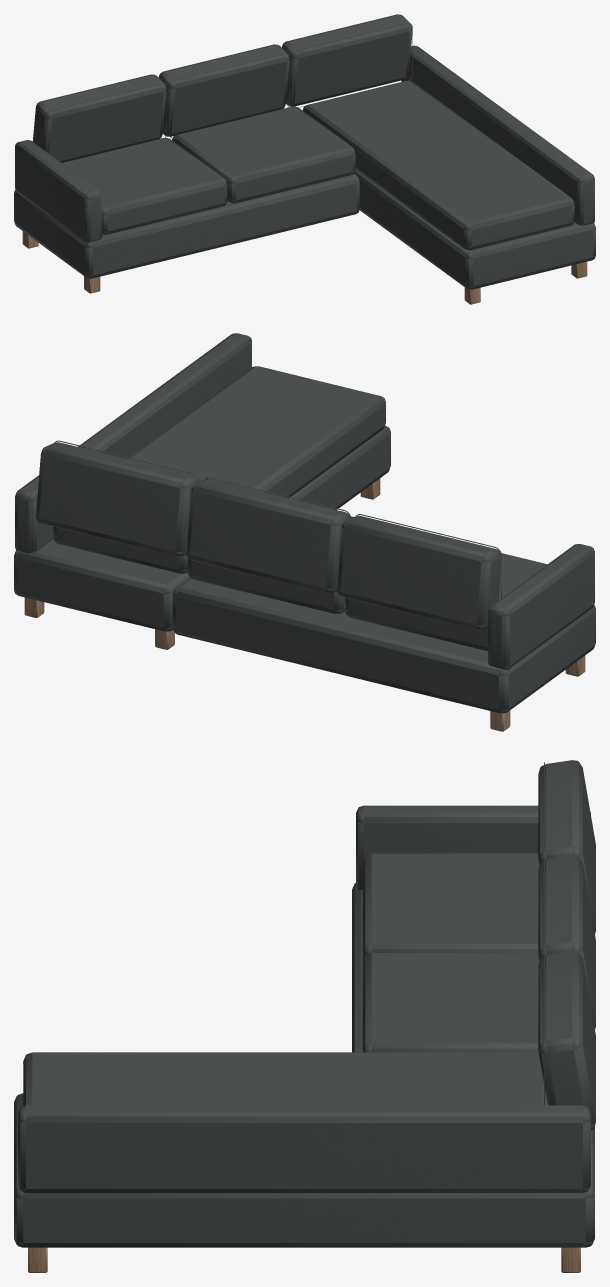
The model's file is everyday-sectional-track-right.glb.
3 views of the same model, one above another, from view 1: azimuth 30°, elevation 25°; view 2: azimuth 150°, elevation 25°; view 3: azimuth 270°, elevation 25° (orthographic). The views are drawn at different scales.
Visible parts, largest first — view 1: everyday-sectional-track-right authored assembly; view 2: everyday-sectional-track-right authored assembly; view 3: everyday-sectional-track-right authored assembly.
Part boxes in pixels (x1=…): everyday-sectional-track-right authored assembly: x1=14, y1=14, x2=595, y2=304; everyday-sectional-track-right authored assembly: x1=14, y1=333, x2=595, y2=731; everyday-sectional-track-right authored assembly: x1=14, y1=760, x2=595, y2=1272.
Size of the model in its own units: 2.8 by 0.93 by 2.2.
3 materials, 2 textured.
